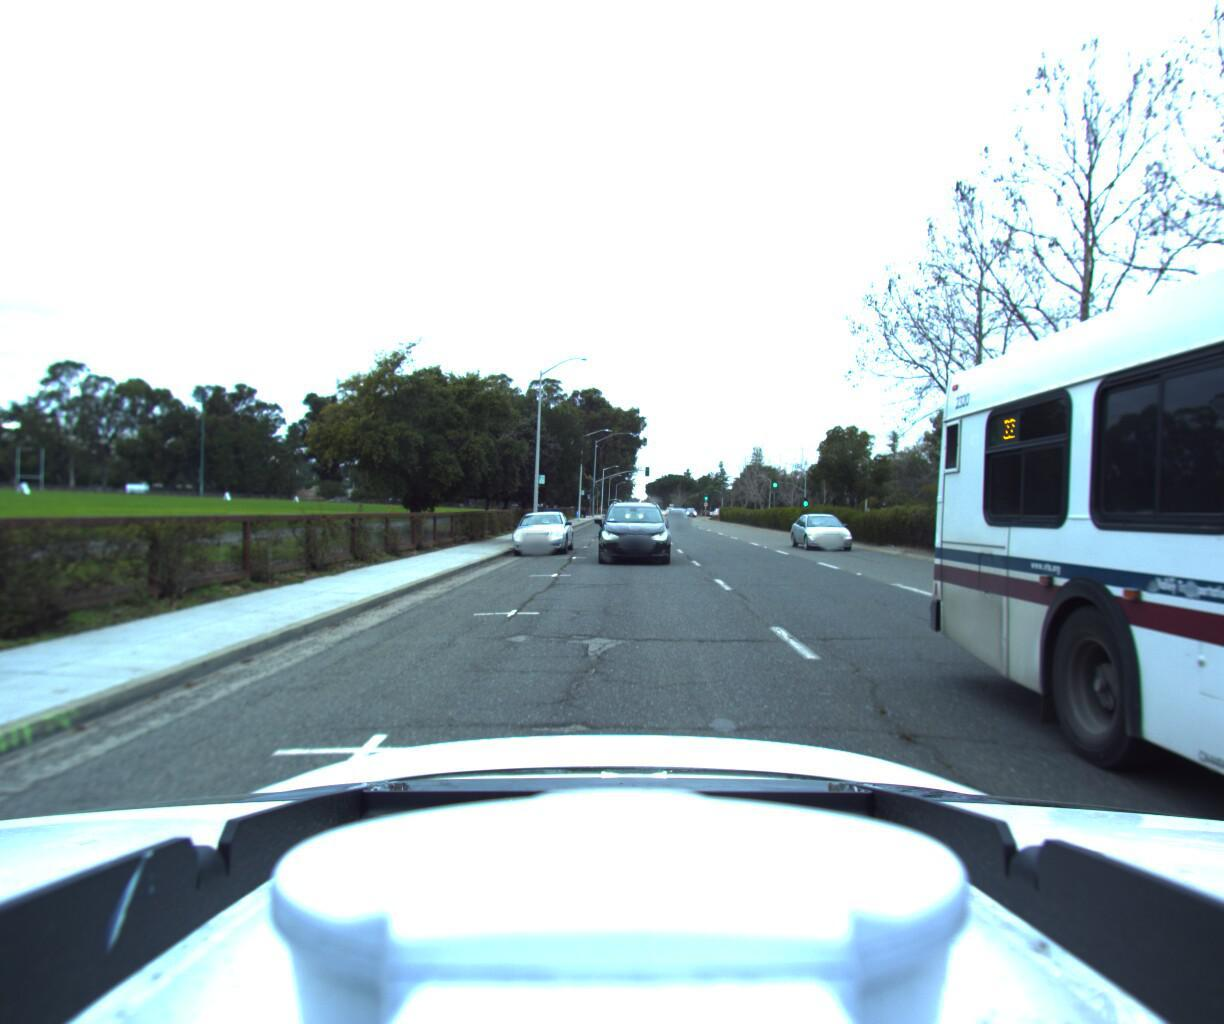car: (592, 497, 665, 564), (791, 511, 868, 553), (502, 506, 569, 554)
